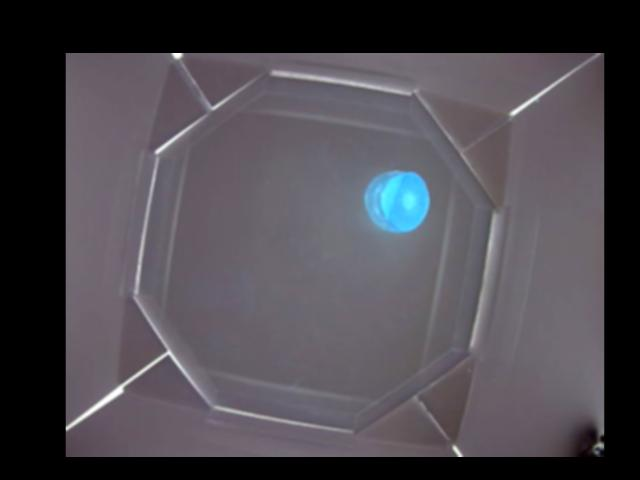Carrot: (364, 170, 429, 232)
